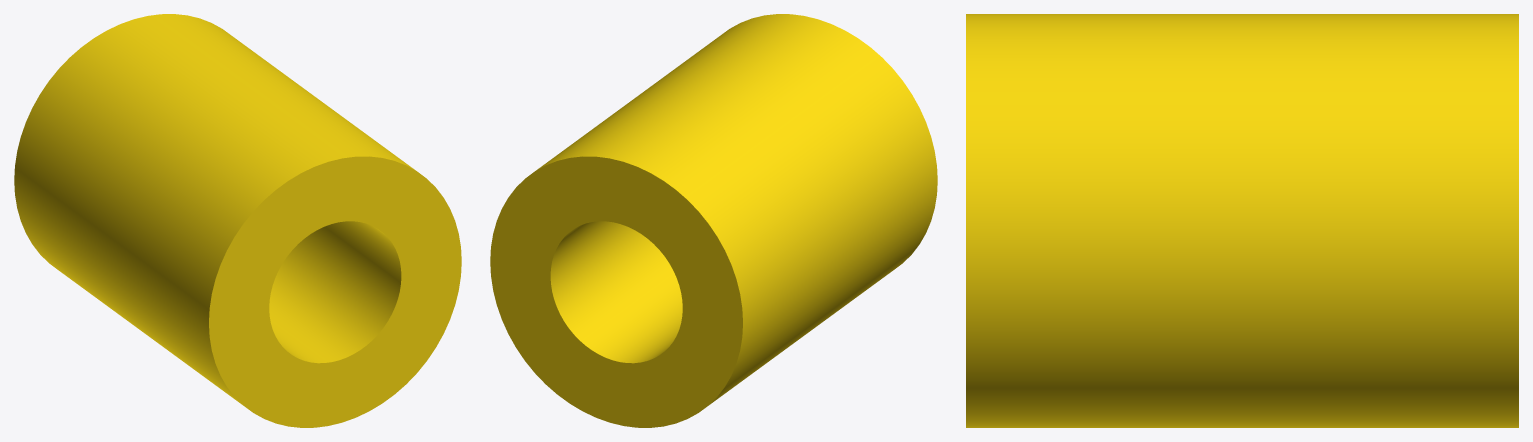
File: Electrical_Box_Spacer.gltf
3 renders of one model, left to right at view 1: azimuth 30°, elevation 25°; view 2: azimuth 150°, elevation 25°; view 3: azimuth 270°, elevation 25°, orthographic. The views are drawn at different scales.
Visible parts, largest first — view 1: mesh56020, mesh56019, mesh56018; view 2: mesh56020, mesh56021, mesh56018; view 3: mesh56020.
Part boxes in pixels (bbox=[...]): mesh56020: bbox=[14, 14, 415, 404]; mesh56019: bbox=[209, 156, 461, 427]; mesh56018: bbox=[269, 221, 401, 363]; mesh56020: bbox=[536, 14, 937, 404]; mesh56021: bbox=[490, 156, 742, 427]; mesh56018: bbox=[550, 221, 682, 363]; mesh56020: bbox=[966, 14, 1518, 427].
Bounding box in the file's own units: 0.00953 × 0.00951 × 0.0127.
